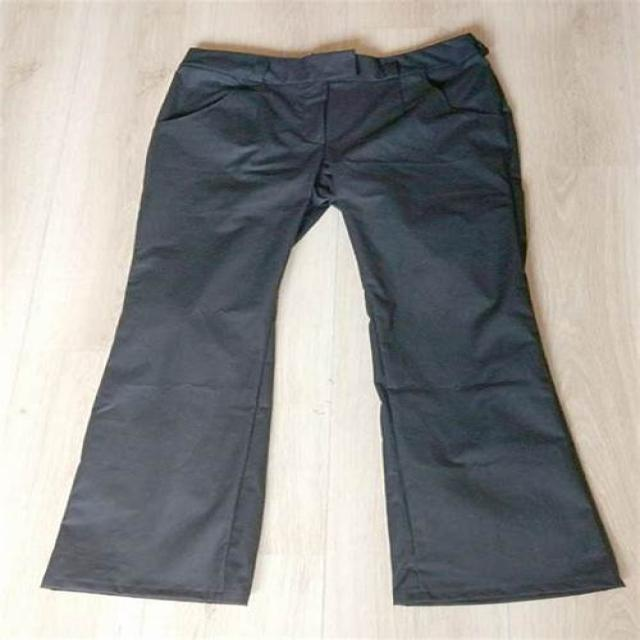long-pants: (37, 35, 623, 608)
